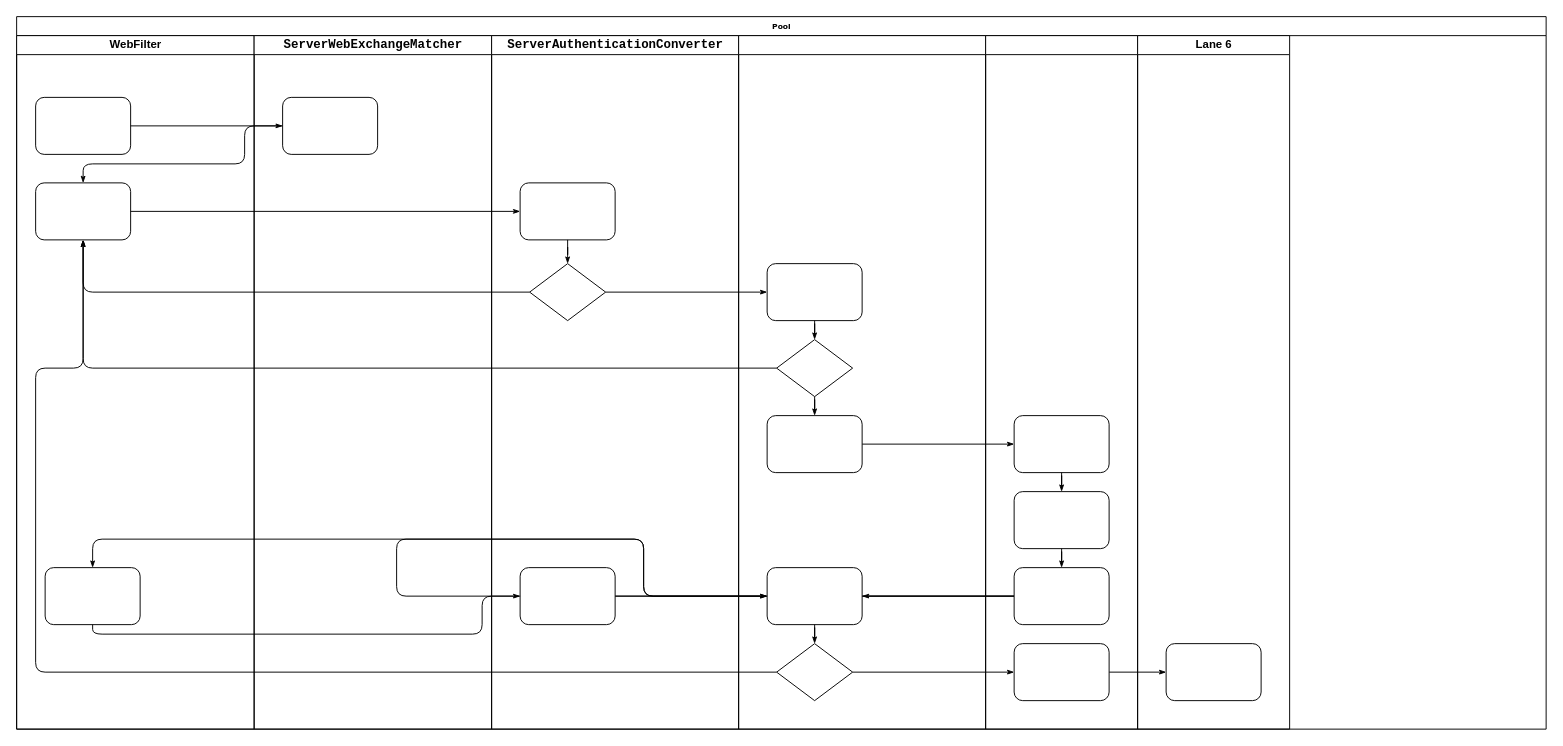
Some shapes in this 1563 by 746 pixel diagram are drawn without their labels. The shapes that lost their labels are listed below. From the top down, each one's box as (x1, y1, x2, y2) in pixels, then its label:
(738, 35, 986, 729): ReactiveAuthenticationManager
(985, 35, 1138, 729): AuthenticationProvider
